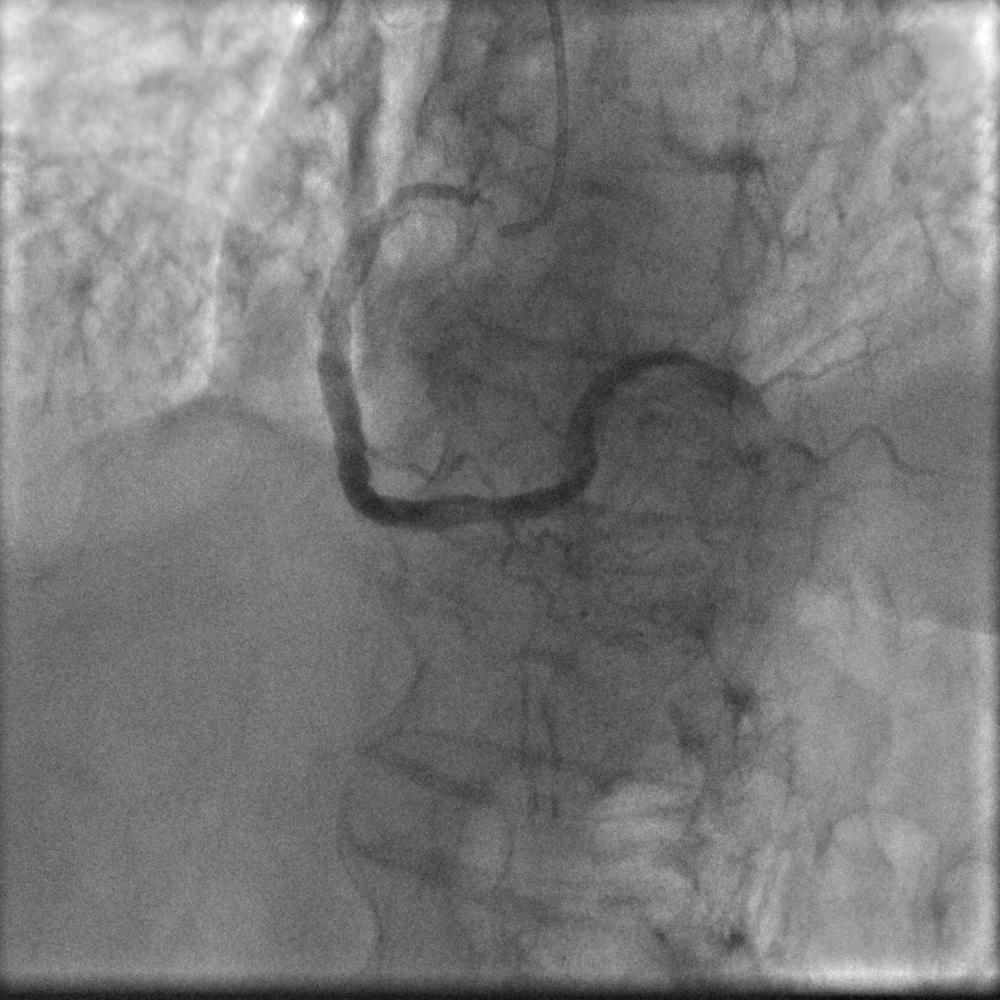Stenosis: (750, 389, 792, 447)
